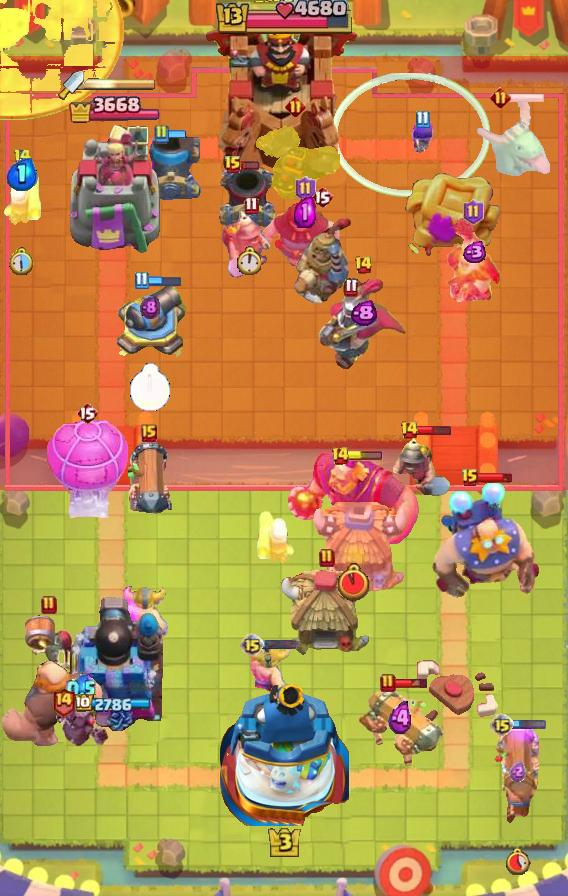archer-evolution: (250, 122, 340, 202)
balloon: (0, 658, 104, 750)
bandit: (220, 207, 282, 279), (390, 431, 452, 499)
bar: (67, 122, 161, 256)
battle-healer: (356, 687, 446, 769), (494, 722, 540, 826), (124, 438, 174, 526)
battle-ram: (51, 702, 111, 750)
cannon-cart: (43, 413, 131, 521)
clock: (213, 0, 355, 38)
electro-spirit: (6, 157, 37, 190), (388, 700, 414, 735), (66, 674, 96, 704), (351, 300, 377, 327), (294, 196, 316, 227), (461, 241, 487, 263), (140, 295, 160, 321), (509, 761, 527, 783)
electro-wizard: (477, 95, 553, 181)
elixir: (129, 364, 171, 413), (338, 563, 369, 601), (505, 847, 532, 875), (9, 248, 35, 277), (236, 246, 261, 275)
emote: (146, 273, 181, 287), (507, 92, 544, 104), (477, 472, 513, 484), (262, 638, 298, 650), (394, 677, 430, 689), (417, 424, 452, 436), (511, 719, 547, 730), (347, 451, 383, 461), (166, 129, 185, 140), (241, 161, 260, 172)
goblin: (410, 118, 435, 154)
goblin-giant: (118, 584, 170, 650), (248, 644, 292, 700)
king-tower: (205, 11, 363, 181), (219, 678, 349, 826)
king-tower-bar: (84, 77, 156, 91)
knight: (22, 612, 76, 676)
lightning: (285, 452, 422, 552)
little-prince: (430, 479, 542, 599)
musketeer: (217, 163, 279, 231), (141, 136, 201, 200)
phoenix-egg: (0, 0, 124, 120)
prince: (308, 502, 410, 598), (280, 568, 374, 658)
ram-rider: (291, 214, 353, 306)
royal-hog: (262, 201, 348, 275)
royal-recruit: (114, 279, 186, 363)
selected: (68, 92, 160, 128), (75, 694, 153, 714)
text: (51, 686, 76, 717), (240, 633, 264, 657), (490, 713, 514, 737), (463, 199, 485, 225), (295, 176, 316, 202), (311, 185, 333, 209), (76, 401, 98, 425), (490, 87, 511, 109), (286, 96, 307, 117), (354, 255, 374, 275), (400, 420, 420, 440), (331, 446, 350, 466), (12, 148, 31, 167), (224, 155, 242, 175), (461, 468, 479, 488), (153, 124, 169, 144), (319, 548, 335, 568), (41, 595, 57, 615), (380, 673, 396, 693), (141, 424, 157, 442), (415, 111, 430, 130), (245, 197, 259, 216), (135, 271, 149, 289)
tombstone: (1, 169, 43, 227), (255, 508, 297, 566)
tower-bar: (65, 593, 163, 731)
wall-breaker-evolution: (317, 277, 409, 371), (445, 218, 503, 303)
